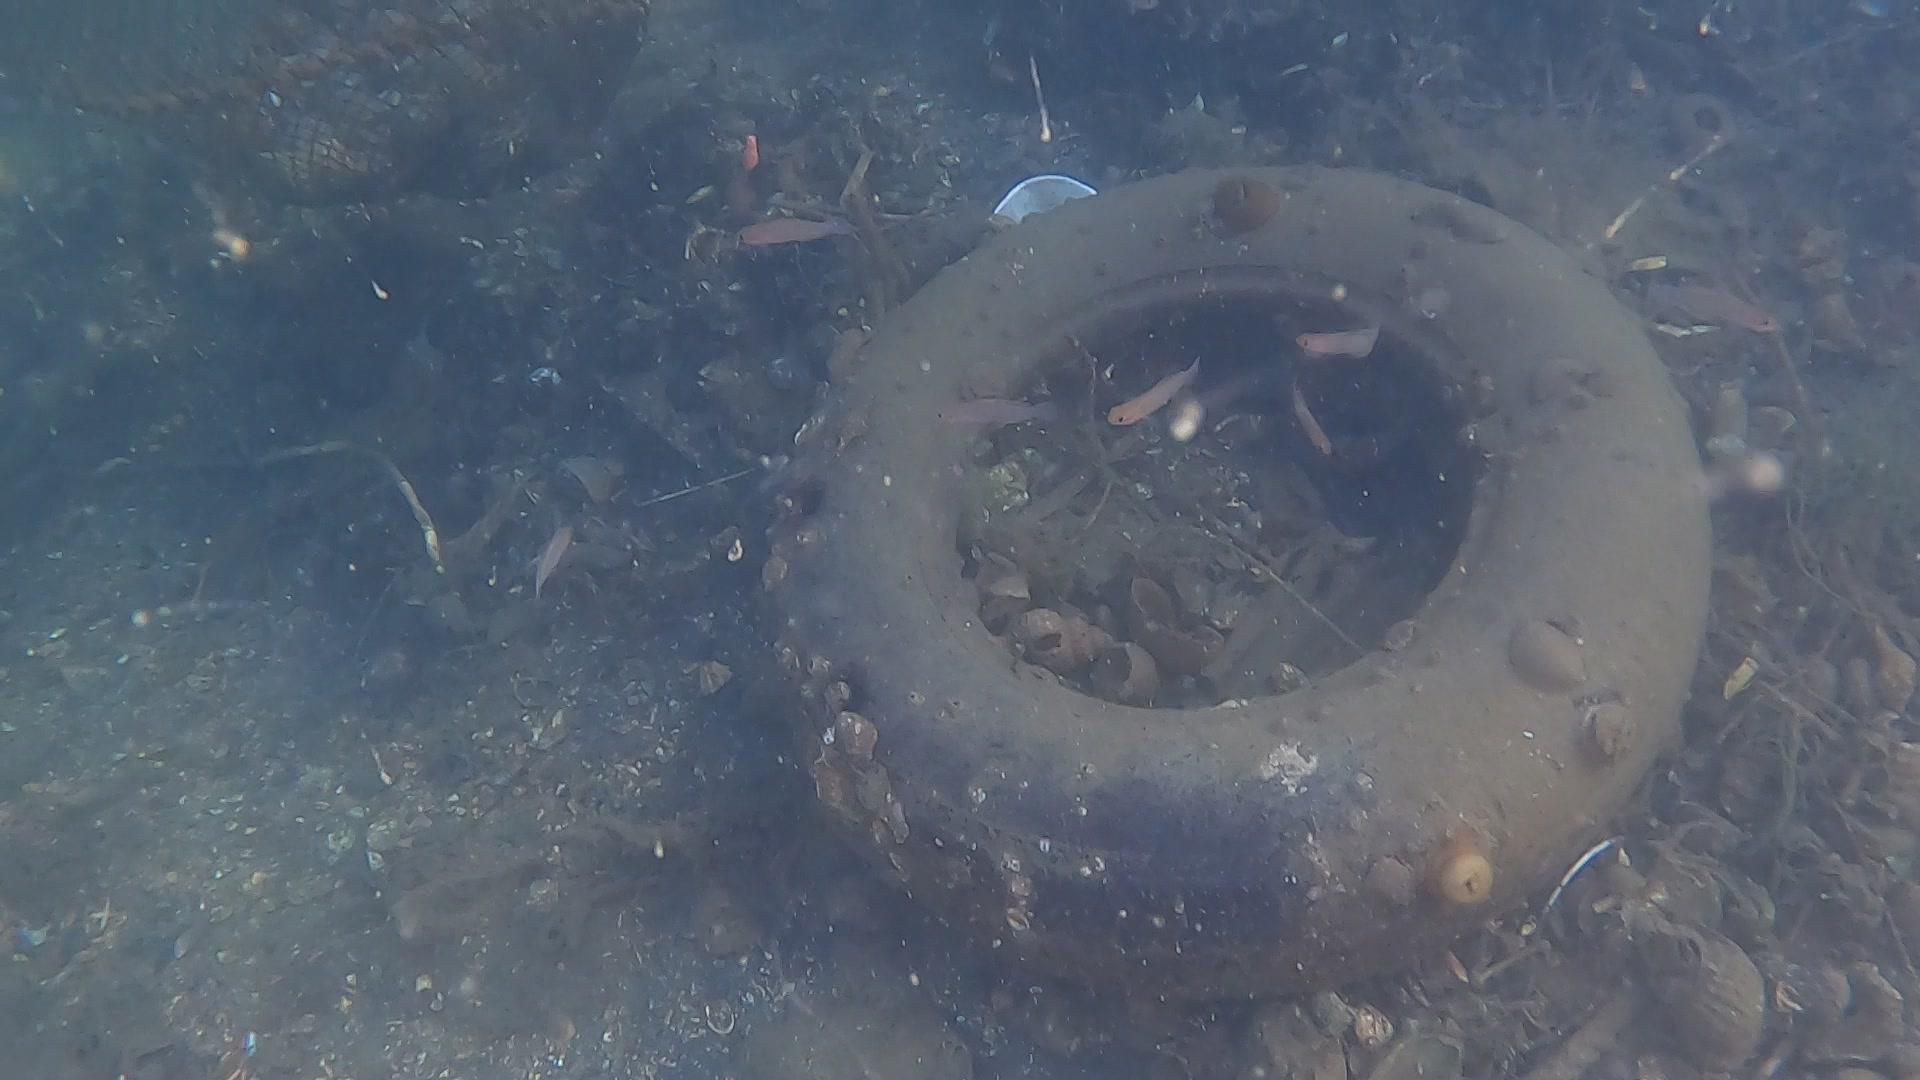tire: (783, 150, 1714, 1007)
